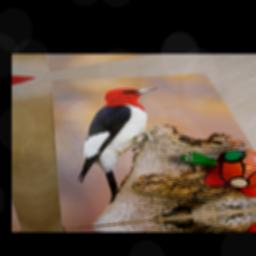Woodpecker: (59, 83, 179, 207)
